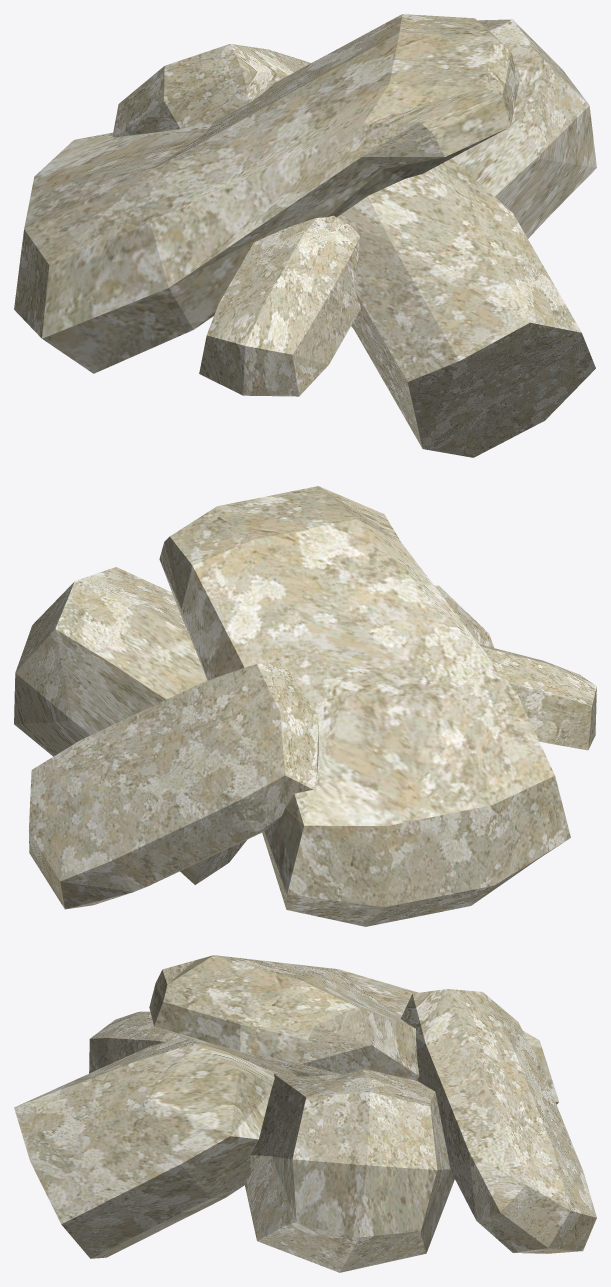
File: rock_formation_a2_l0.fbx
The picture shows the model from 3 angles, top to bottom: view 1: azimuth 30°, elevation 25°; view 2: azimuth 150°, elevation 25°; view 3: azimuth 270°, elevation 25°; orthographic projection. The views are drawn at different scales.
Parts seen in each view (by area): view 1: mesh_node; view 2: mesh_node; view 3: mesh_node.
Boxes of the visible parts, x1,y1,x2,y2 form: mesh_node: (14,14,596,457); mesh_node: (14,486,596,926); mesh_node: (14,955,596,1272).
Size of the model in its own units: 11.04 by 6.32 by 11.4.
